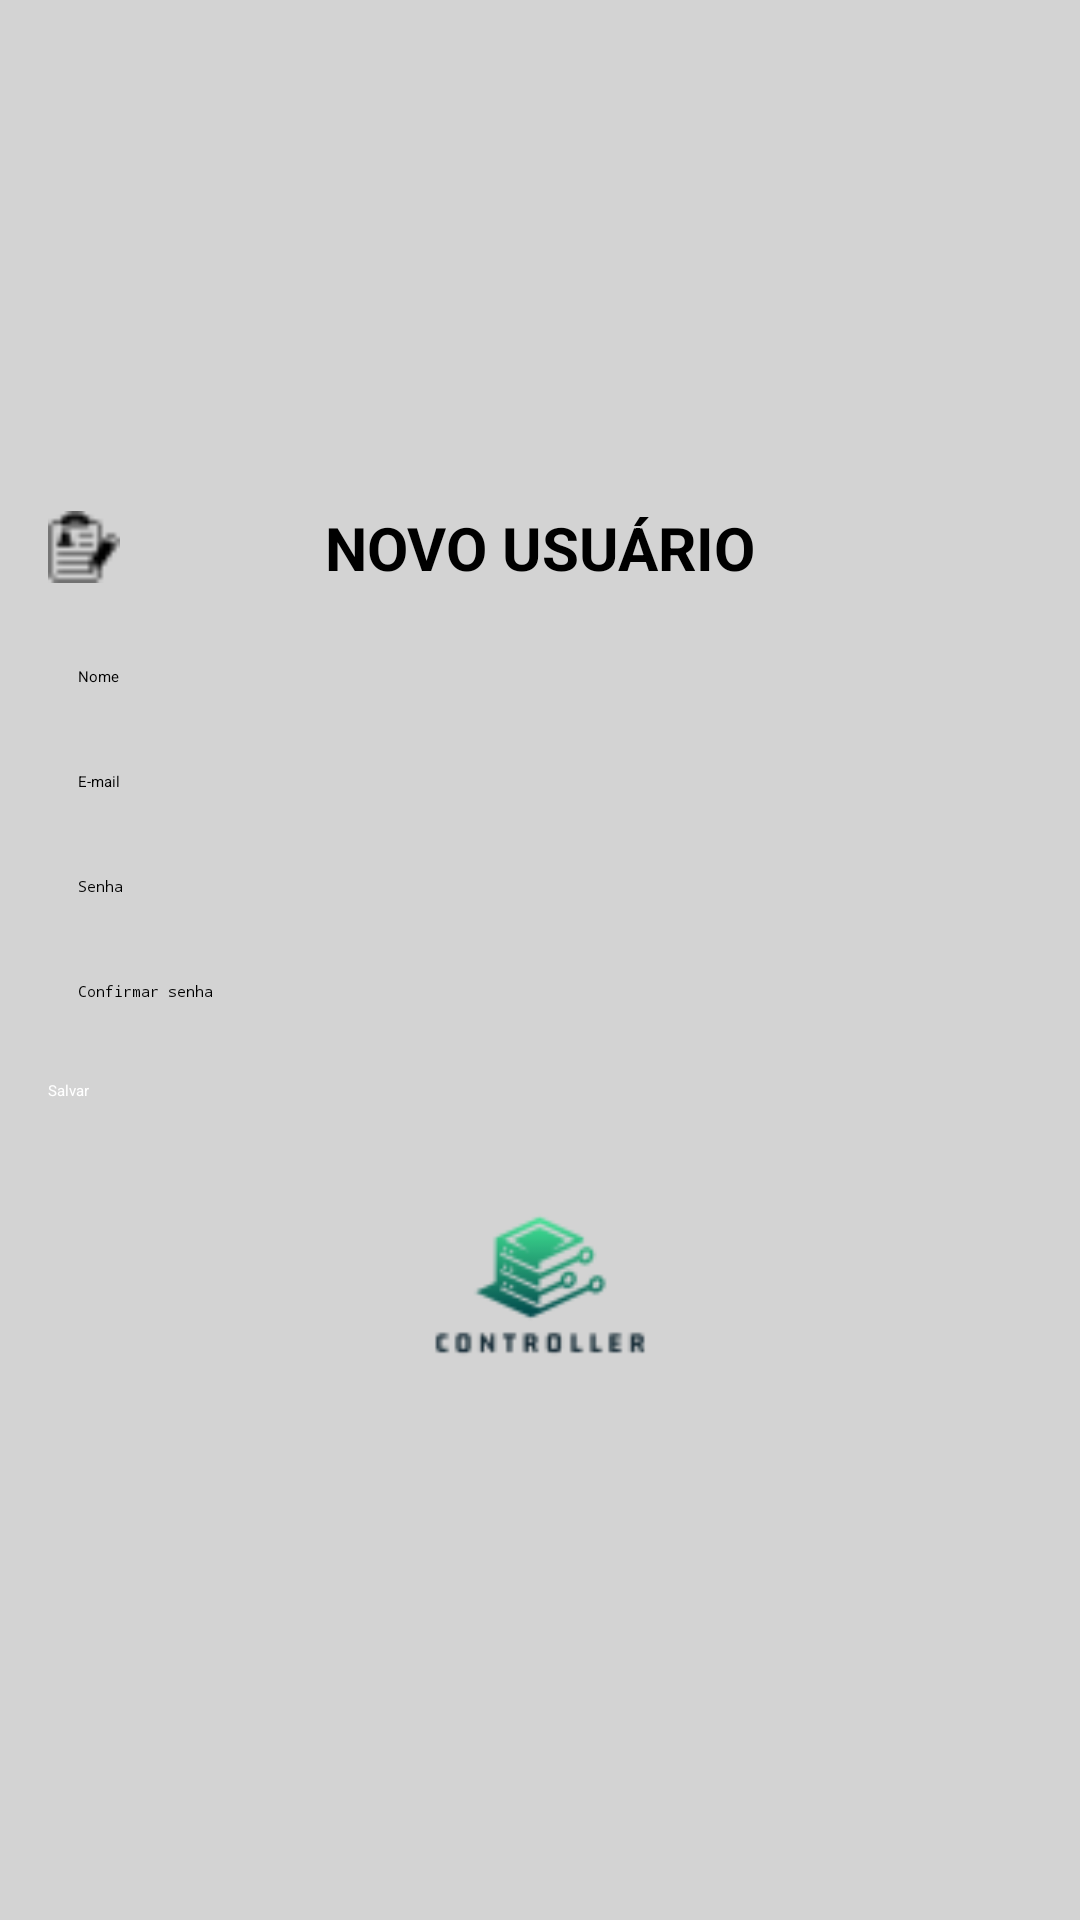

Screen size 1080px x 1920px. Icon name, then its box in pixels as rect(x1, y1, x2, y2):
register: rect(48, 511, 120, 583)
